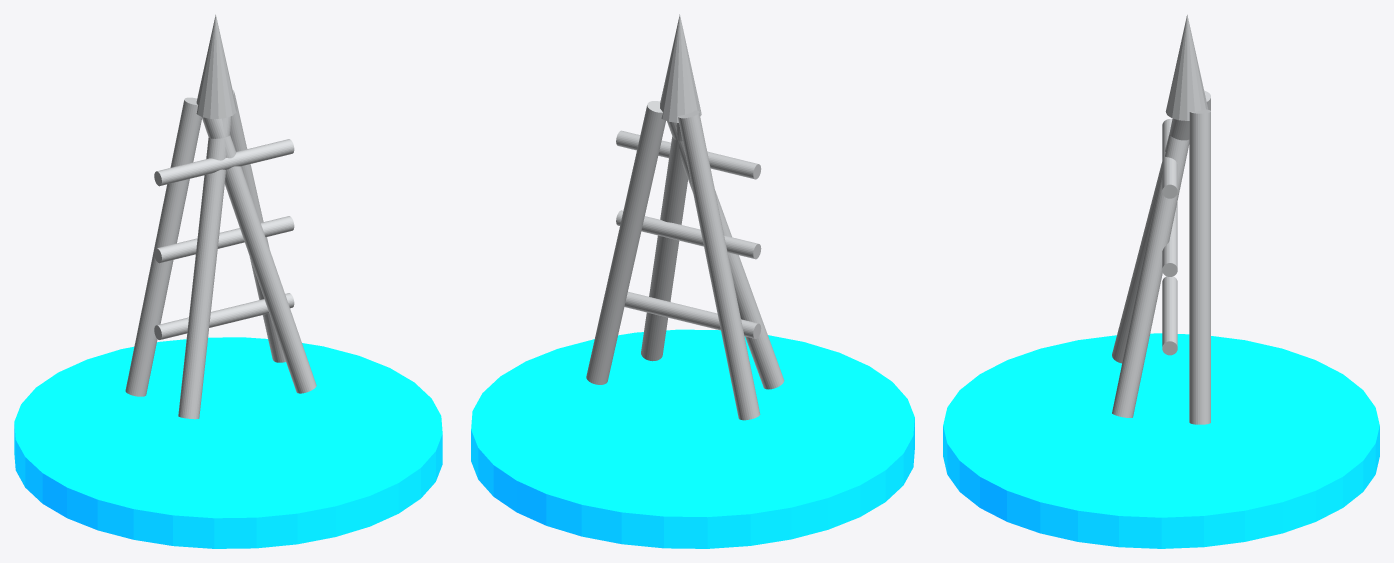
Rendered from french_eiffel_tower.glb.
3 views of the same model, side by side, from view 1: azimuth 30°, elevation 25°; view 2: azimuth 150°, elevation 25°; view 3: azimuth 270°, elevation 25° (orthographic). The views are drawn at different scales.
Visible parts, largest first — view 1: 10_01_Popular_French_Eiffel_Tower_ROOT_base, 10_01_Popular_French_Eiffel_Tower_part_03, 10_01_Popular_French_Eiffel_Tower_part_01, 10_01_Popular_French_Eiffel_Tower_part_04, 10_01_Popular_French_Eiffel_Tower_part_08, 10_01_Popular_French_Eiffel_Tower_part_07, 10_01_Popular_French_Eiffel_Tower_part_02, 10_01_Popular_French_Eiffel_Tower_part_06, 10_01_Popular_French_Eiffel_Tower_part_05; view 2: 10_01_Popular_French_Eiffel_Tower_ROOT_base, 10_01_Popular_French_Eiffel_Tower_part_01, 10_01_Popular_French_Eiffel_Tower_part_02, 10_01_Popular_French_Eiffel_Tower_part_04, 10_01_Popular_French_Eiffel_Tower_part_03, 10_01_Popular_French_Eiffel_Tower_part_08, 10_01_Popular_French_Eiffel_Tower_part_05, 10_01_Popular_French_Eiffel_Tower_part_06, 10_01_Popular_French_Eiffel_Tower_part_07; view 3: 10_01_Popular_French_Eiffel_Tower_ROOT_base, 10_01_Popular_French_Eiffel_Tower_part_02, 10_01_Popular_French_Eiffel_Tower_part_04, 10_01_Popular_French_Eiffel_Tower_part_08, 10_01_Popular_French_Eiffel_Tower_part_03, 10_01_Popular_French_Eiffel_Tower_part_05, 10_01_Popular_French_Eiffel_Tower_part_07, 10_01_Popular_French_Eiffel_Tower_part_06.
Boxes of the visible parts, left/top/right/bottom form: 10_01_Popular_French_Eiffel_Tower_ROOT_base: left=14, top=337, right=442, bottom=548; 10_01_Popular_French_Eiffel_Tower_part_03: left=178, top=116, right=231, bottom=419; 10_01_Popular_French_Eiffel_Tower_part_01: left=125, top=97, right=201, bottom=396; 10_01_Popular_French_Eiffel_Tower_part_04: left=201, top=117, right=316, bottom=393; 10_01_Popular_French_Eiffel_Tower_part_08: left=196, top=14, right=236, bottom=118; 10_01_Popular_French_Eiffel_Tower_part_07: left=154, top=139, right=294, bottom=186; 10_01_Popular_French_Eiffel_Tower_part_02: left=230, top=90, right=285, bottom=362; 10_01_Popular_French_Eiffel_Tower_part_06: left=154, top=216, right=294, bottom=263; 10_01_Popular_French_Eiffel_Tower_part_05: left=154, top=293, right=294, bottom=339; 10_01_Popular_French_Eiffel_Tower_ROOT_base: left=471, top=329, right=914, bottom=548; 10_01_Popular_French_Eiffel_Tower_part_01: left=677, top=110, right=760, bottom=420; 10_01_Popular_French_Eiffel_Tower_part_02: left=586, top=101, right=665, bottom=384; 10_01_Popular_French_Eiffel_Tower_part_04: left=641, top=123, right=687, bottom=361; 10_01_Popular_French_Eiffel_Tower_part_03: left=667, top=121, right=784, bottom=389; 10_01_Popular_French_Eiffel_Tower_part_08: left=660, top=14, right=701, bottom=122; 10_01_Popular_French_Eiffel_Tower_part_05: left=624, top=291, right=761, bottom=338; 10_01_Popular_French_Eiffel_Tower_part_06: left=616, top=210, right=761, bottom=259; 10_01_Popular_French_Eiffel_Tower_part_07: left=616, top=130, right=761, bottom=179; 10_01_Popular_French_Eiffel_Tower_ROOT_base: left=943, top=333, right=1379, bottom=548; 10_01_Popular_French_Eiffel_Tower_part_02: left=1189, top=109, right=1210, bottom=424; 10_01_Popular_French_Eiffel_Tower_part_04: left=1112, top=119, right=1189, bottom=417; 10_01_Popular_French_Eiffel_Tower_part_08: left=1165, top=15, right=1208, bottom=120; 10_01_Popular_French_Eiffel_Tower_part_03: left=1112, top=119, right=1189, bottom=363; 10_01_Popular_French_Eiffel_Tower_part_05: left=1162, top=276, right=1177, bottom=355; 10_01_Popular_French_Eiffel_Tower_part_07: left=1162, top=119, right=1177, bottom=198; 10_01_Popular_French_Eiffel_Tower_part_06: left=1162, top=202, right=1177, bottom=276.
Bounding box in the file's own units: 0.76 × 0.85 × 0.76.
